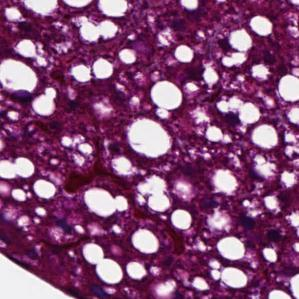steatosis: (125, 117, 174, 163), (147, 78, 188, 113)
